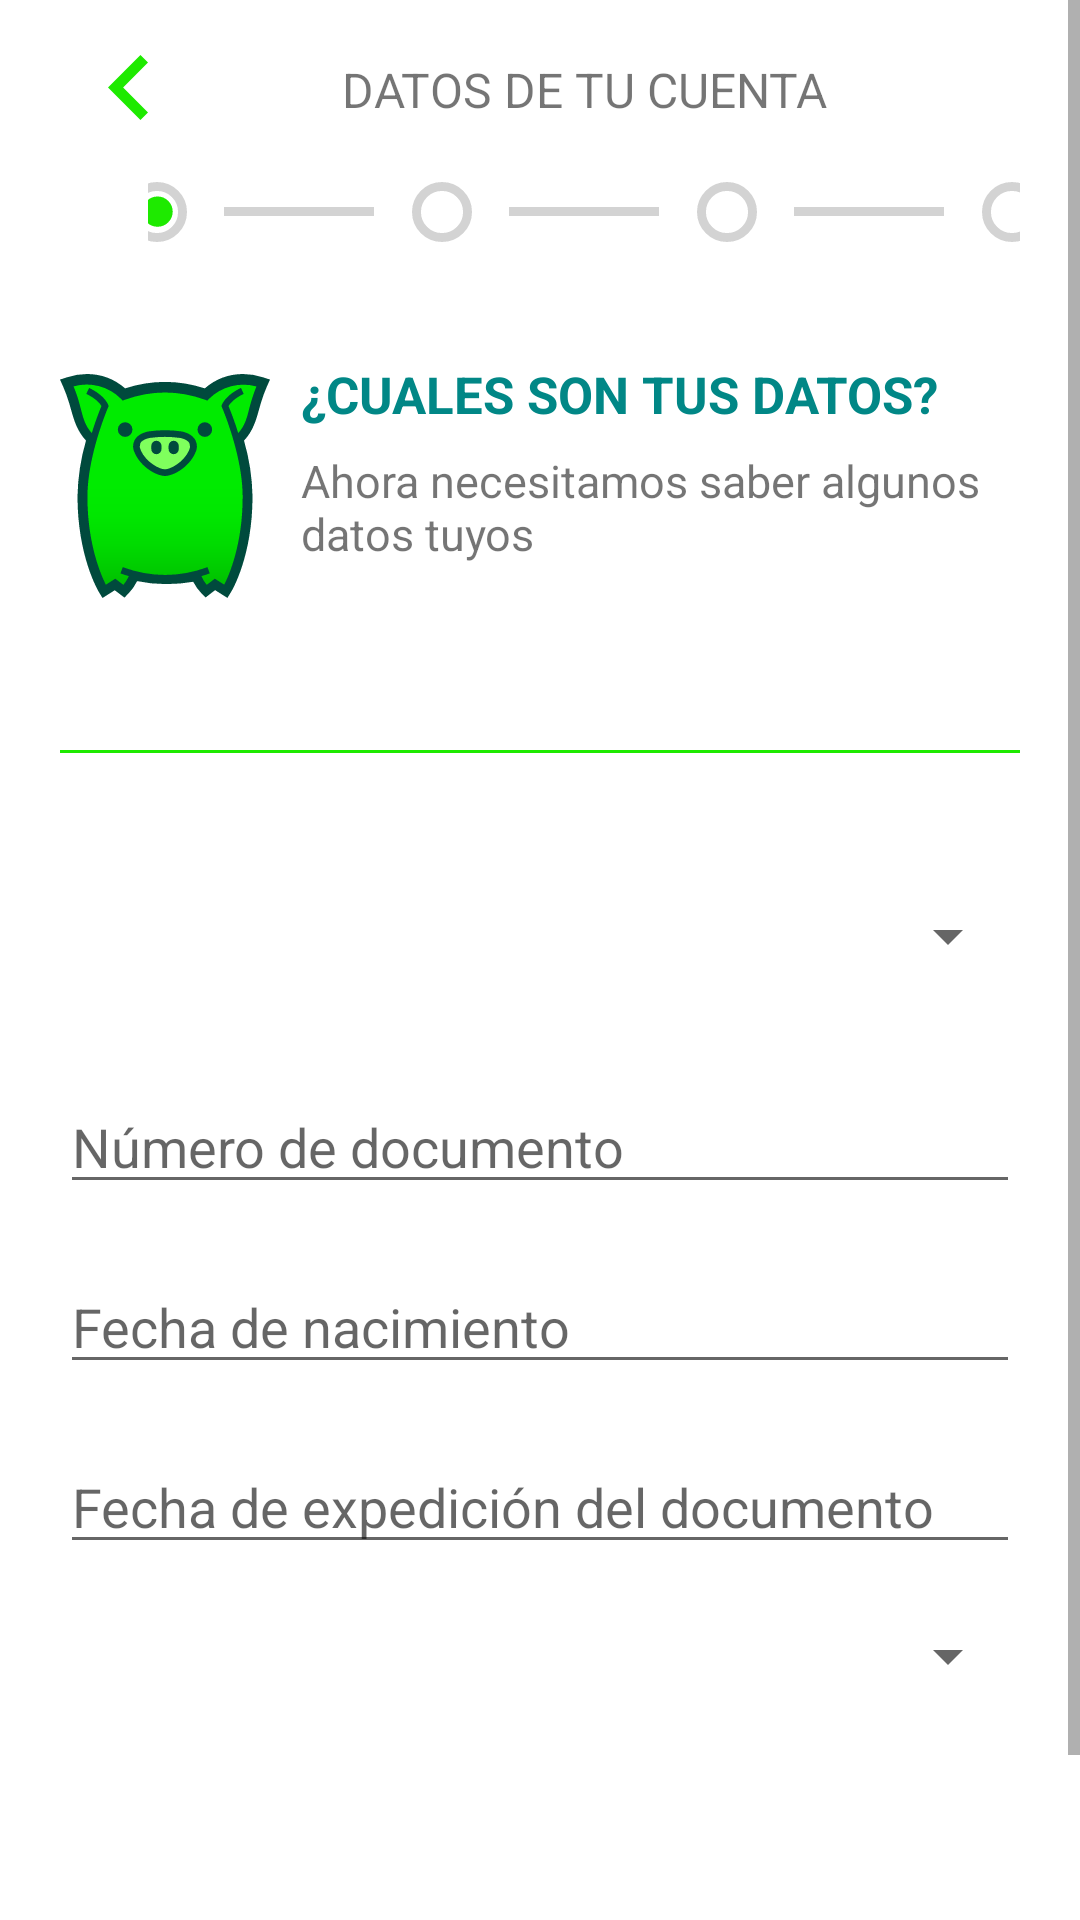

Named icons in this screenshot (1080*1920) and their bounding boxes, {"x1": x1, "y1": y1, "x2": x2, "y2": y2}:
back: {"x1": 108, "y1": 55, "x2": 148, "y2": 120}
